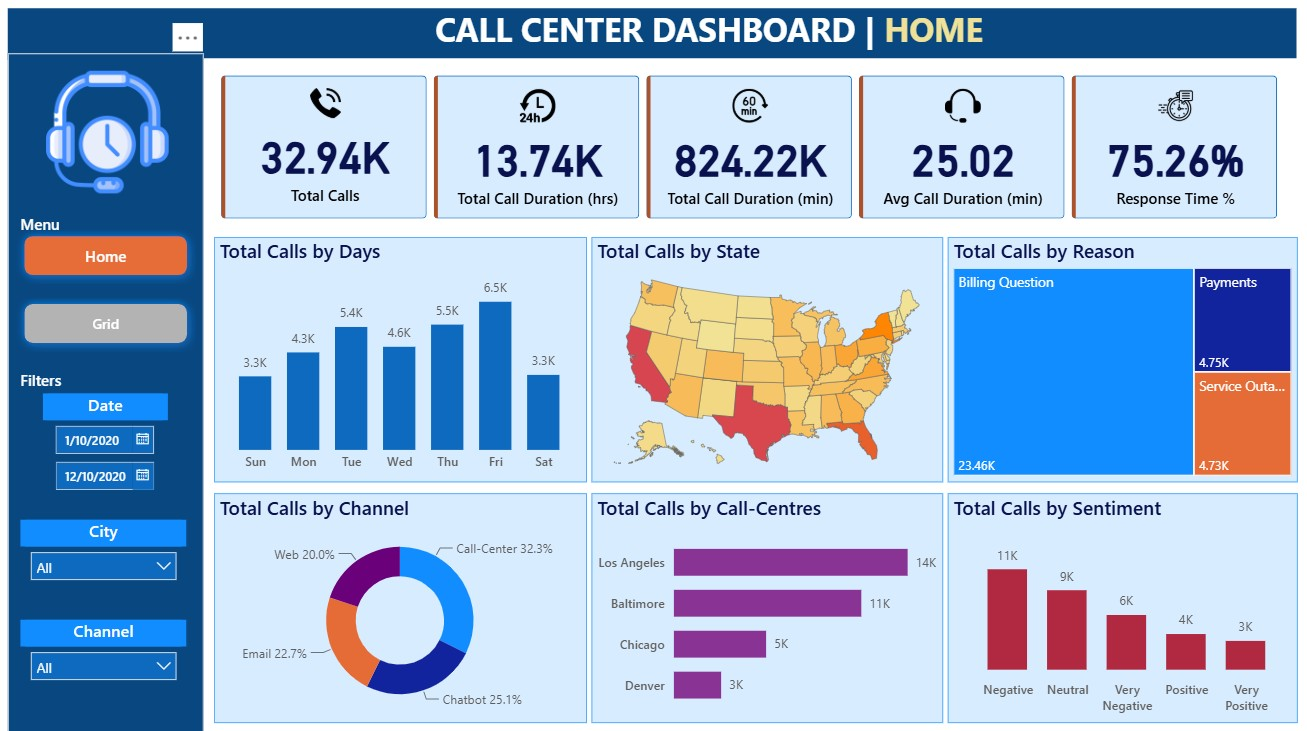

The dashboard page shown, as its layout file describes it:
{"tool":"powerbi","page":{"name":"Home","canvas":[1280,720],"ordinal":0},"visuals":[{"type":"shape","box":[8.6,11,1260.7,50.1],"z":0},{"type":"shape","box":[8.6,55,192,665.2],"z":1000},{"type":"cardVisual","fields":{"Data":["Measures..Total Calls","Measures..Total Call Duration (hrs)","Measures..Total Call Duration (min)","Measures..Avg Call Duration (min)","Measures..Response Time %"]},"box":[200.5,59.9,1070,174.9],"z":2000},{"type":"textbox","box":[375.4,9.8,638.3,50.1],"z":3000},{"type":"columnChart","fields":{"Y":["Call Center_Dataset.Total Calls"],"Category":["Date Table.Days"]},"box":[210.3,234.8,364.4,239.7],"z":4000},{"type":"shapeMap","fields":{"Value":["Call Center_Dataset.Total Calls"],"Category":["Call Center_Dataset.State"]},"box":[579.6,234.8,343.6,239.7],"z":5000},{"type":"treemap","fields":{"Values":["Call Center_Dataset.Total Calls"],"Group":["Call Center_Dataset.Reason"]},"box":[928.1,234.8,342.4,239.7],"z":6000},{"type":"donutChart","fields":{"Category":["Call Center_Dataset.Channel"],"Y":["Call Center_Dataset.Total Calls"]},"box":[210.3,485.5,364.4,225],"z":7000},{"type":"columnChart","fields":{"Category":["Call Center_Dataset.Sentiment"],"Y":["Call Center_Dataset.Total Calls"]},"box":[928.1,485.5,342.4,225],"z":8000},{"type":"barChart","fields":{"Category":["Call Center_Dataset.Call-Centres City"],"Y":["Call Center_Dataset.Total Calls"]},"box":[579.6,485.5,343.6,225],"z":9000},{"type":"slicer","title":"Date","fields":{"Values":["Date Table.Date"]},"box":[42.8,387.6,122.3,111.3],"z":10000},{"type":"slicer","title":"City","fields":{"Values":["Call Center_Dataset.City"]},"box":[20.8,511.1,162.6,78.3],"z":11000},{"type":"slicer","title":"Channel","fields":{"Values":["Call Center_Dataset.Channel"]},"box":[20.8,609,162.6,79.5],"z":12000},{"type":"textbox","box":[15.9,359.5,83.2,36.7],"z":13000},{"type":"image","box":[42.8,72.1,126,119.8],"z":14000},{"type":"pageNavigator","box":[15.9,225,177.3,123.5],"z":15000},{"type":"textbox","box":[15.9,206.7,83.2,36.7],"z":16000}]}

Visuals, with their boxes in screenshot pixels (x1, y1, x2, y2), scaled from the page's 1280x720 canvas onto the 1307x731 screenshot:
shape: bbox(9, 11, 1296, 62)
shape: bbox(9, 56, 205, 730)
cardVisual - Measures..Total Calls x Measures..Total Call Duration (hrs): bbox(205, 61, 1297, 238)
textbox: bbox(383, 10, 1035, 61)
columnChart - Call Center_Dataset.Total Calls x Date Table.Days: bbox(215, 238, 587, 482)
shapeMap - Call Center_Dataset.Total Calls x Call Center_Dataset.State: bbox(592, 238, 943, 482)
treemap - Call Center_Dataset.Total Calls x Call Center_Dataset.Reason: bbox(948, 238, 1297, 482)
donutChart - Call Center_Dataset.Channel x Call Center_Dataset.Total Calls: bbox(215, 493, 587, 721)
columnChart - Call Center_Dataset.Sentiment x Call Center_Dataset.Total Calls: bbox(948, 493, 1297, 721)
barChart - Call Center_Dataset.Call-Centres City x Call Center_Dataset.Total Calls: bbox(592, 493, 943, 721)
"Date" slicer: bbox(44, 394, 169, 507)
"City" slicer: bbox(21, 519, 187, 598)
"Channel" slicer: bbox(21, 618, 187, 699)
textbox: bbox(16, 365, 101, 402)
image: bbox(44, 73, 172, 195)
pageNavigator: bbox(16, 228, 197, 354)
textbox: bbox(16, 210, 101, 247)
